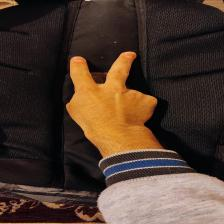two: (59, 46, 160, 130)
